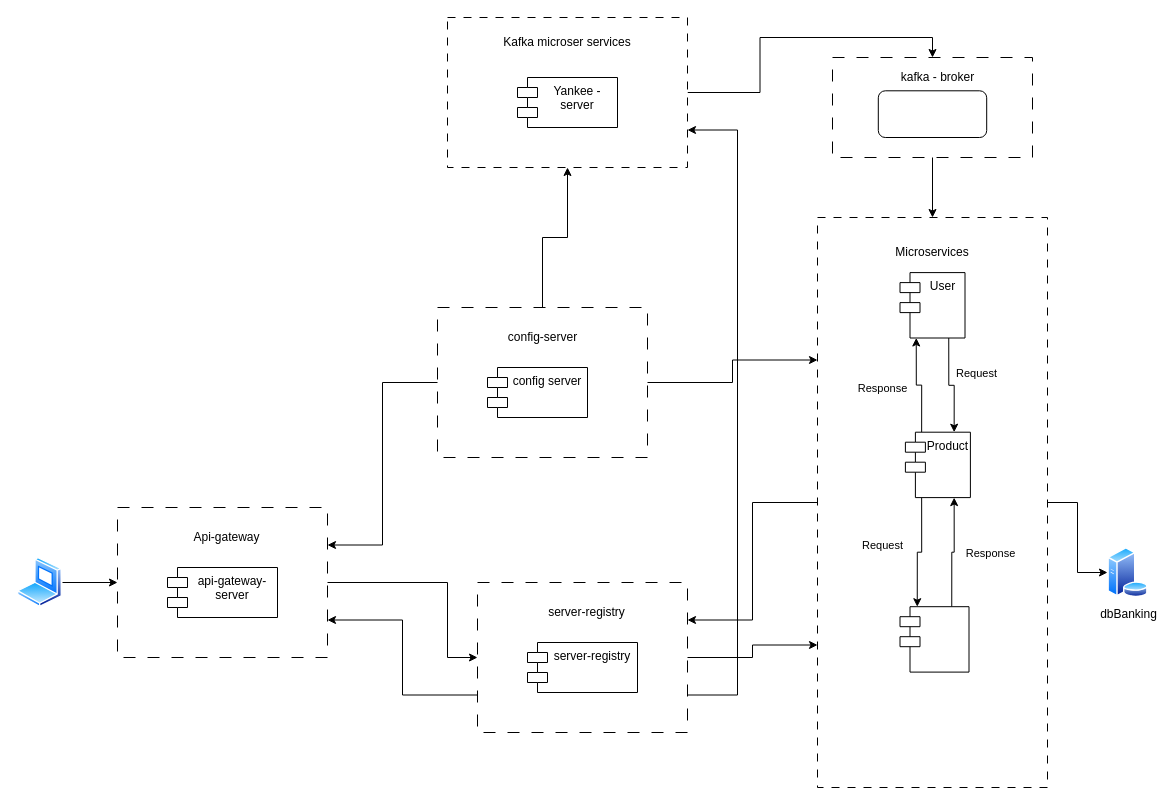
The diagram is 1173 pixels wide and 805 high, and some of its shapes have lost their labels. The centre of each missing label's shape, as x and y in pixels:
"Client" goes at [39,582].
"Movement" goes at [934,639].
"Topic" goes at [932,114].
